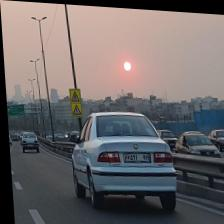plate: (120, 150, 149, 162), (26, 144, 32, 147)
